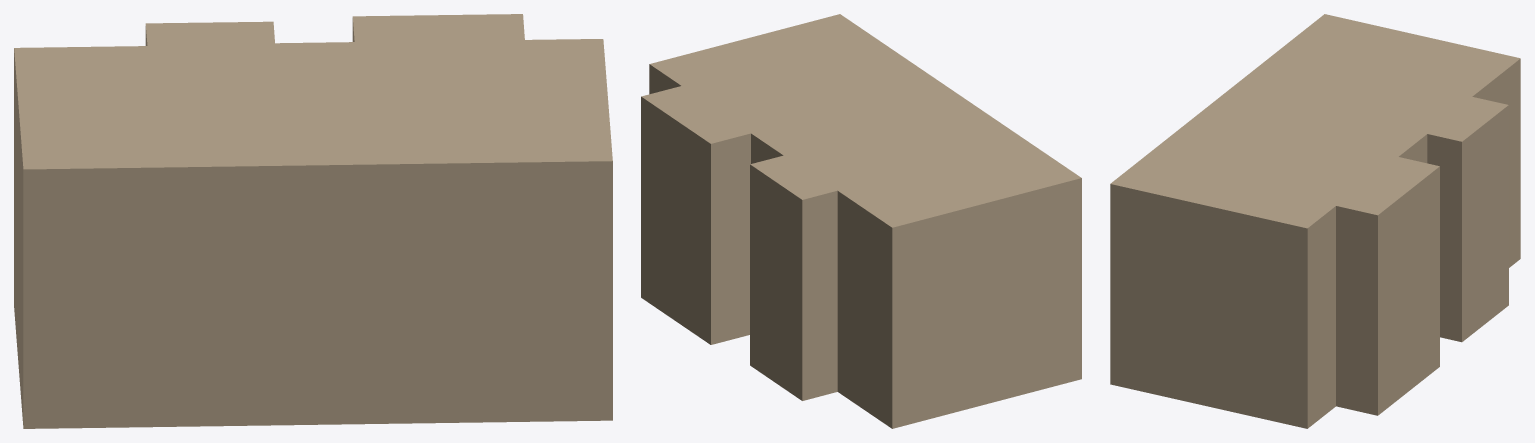
The model's file is bld_99531840.dae.
The picture shows the model from 3 angles, left to right: view 1: azimuth 30°, elevation 25°; view 2: azimuth 150°, elevation 25°; view 3: azimuth 270°, elevation 25°; orthographic projection. The views are drawn at different scales.
Parts seen in each view (by area): view 1: bld_99531840; view 2: bld_99531840; view 3: bld_99531840.
Boxes of the visible parts, x1=… form: bld_99531840: x1=14, y1=14, x2=612, y2=428; bld_99531840: x1=641, y1=14, x2=1081, y2=428; bld_99531840: x1=1110, y1=14, x2=1520, y2=428.
Bounding box in the file's own units: 18.35 × 14.85 × 8.
